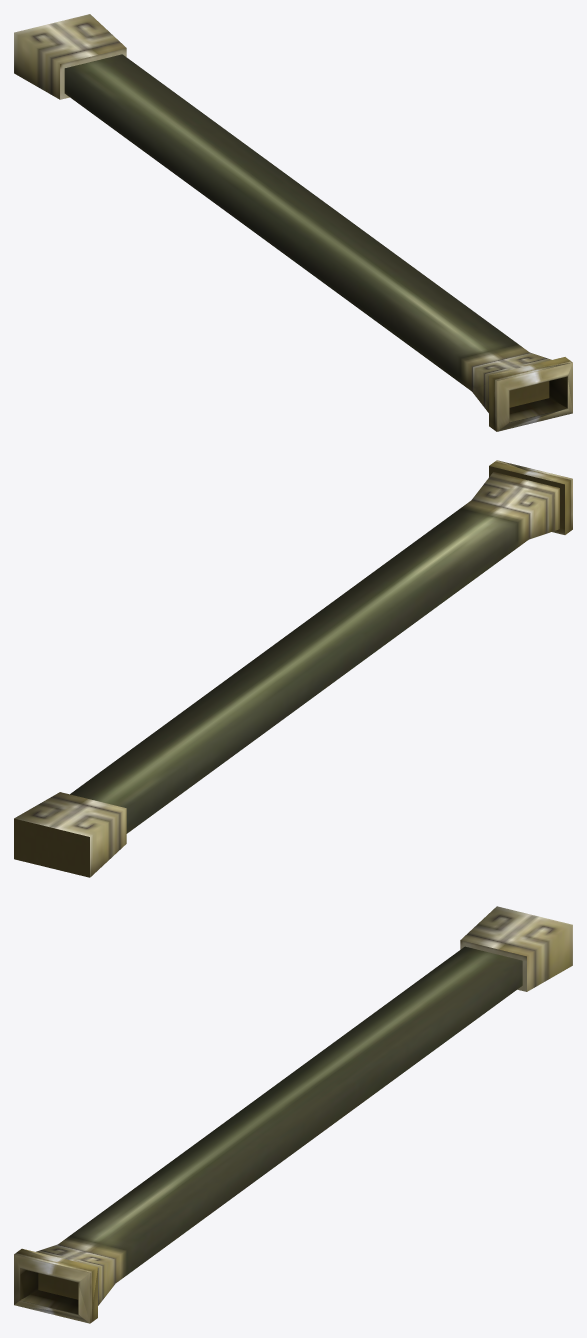
The picture shows the model from 3 angles, top to bottom: view 1: azimuth 30°, elevation 25°; view 2: azimuth 150°, elevation 25°; view 3: azimuth 330°, elevation 25°; orthographic projection.
Parts seen in each view (by area): view 1: w9_0l; view 2: w9_0l; view 3: w9_0l.
Part boxes in pixels (x1,y1,x2,y2): w9_0l: [14, 14, 572, 431]; w9_0l: [14, 460, 572, 877]; w9_0l: [14, 906, 572, 1323].
Size of the model in its own units: 1.95 by 1.24 by 21.55.
Materials: 1 (1 with a texture image).
